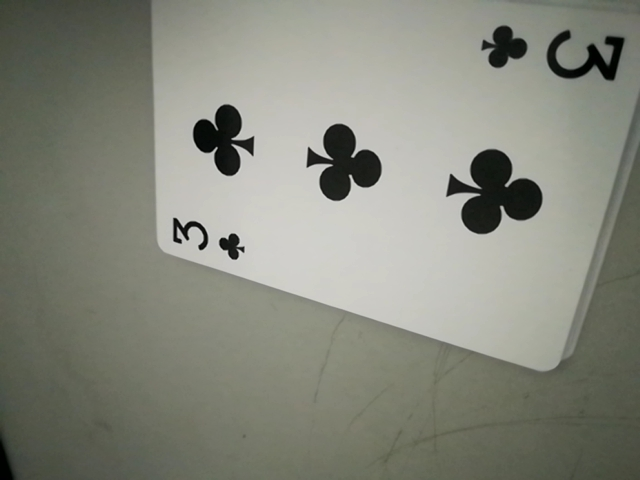mh 3: (479, 15, 624, 90), (165, 211, 252, 266)
